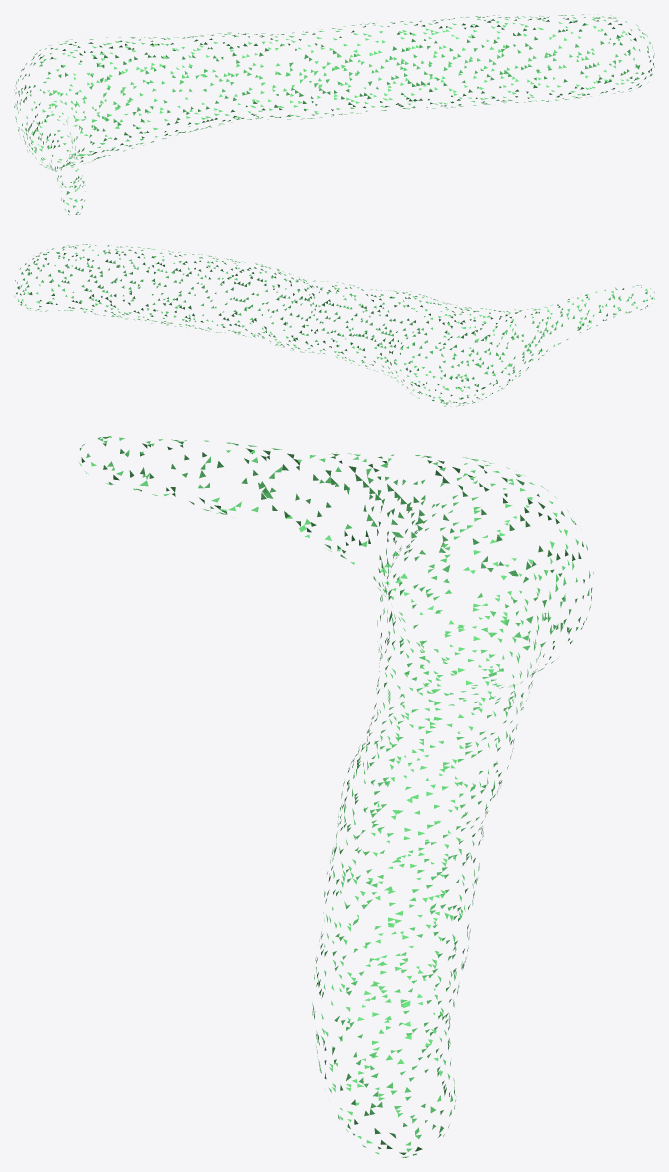
The model's file is morph_019.glb.
The picture shows the model from 3 angles, top to bottom: view 1: azimuth 30°, elevation 25°; view 2: azimuth 150°, elevation 25°; view 3: azimuth 270°, elevation 25°; orthographic projection. The views are drawn at different scales.
Size of the model in its own units: 122 by 25.51 by 49.12.
